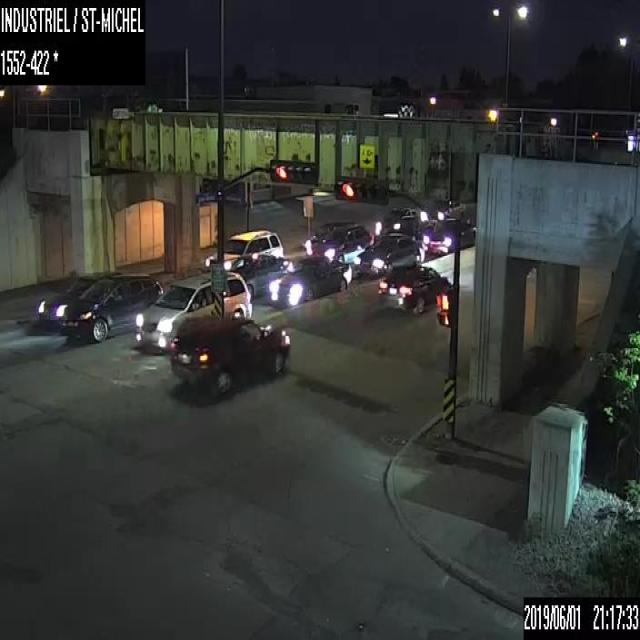vehicle: (132, 270, 252, 352), (168, 319, 290, 393), (59, 271, 162, 341), (35, 271, 129, 332), (379, 264, 451, 314), (271, 256, 350, 301), (203, 229, 282, 271), (354, 232, 424, 276), (230, 253, 293, 298), (307, 224, 374, 261), (422, 218, 476, 255), (306, 222, 356, 249), (374, 206, 422, 233), (420, 198, 465, 222)
